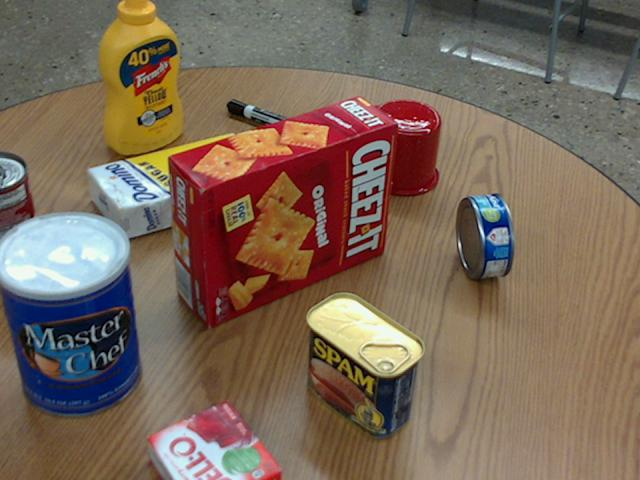cracker_box: (169, 96, 397, 325)
gelatin_box: (144, 401, 279, 479)
large_marker: (227, 98, 312, 138)
master_chef_can: (0, 212, 140, 417)
mug: (361, 99, 440, 195)
mustard_bottle: (100, 0, 182, 153)
potted_meat_can: (305, 291, 423, 438)
sugar_box: (87, 131, 267, 239)
tomato_soup_can: (0, 151, 40, 272)
tuna_fish_can: (455, 192, 514, 277)
